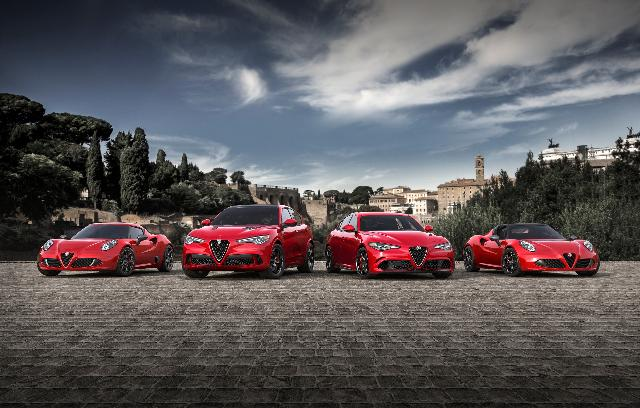alpha-romeo: (181, 204, 315, 280), (324, 211, 456, 279), (36, 222, 174, 278), (462, 223, 600, 278)
